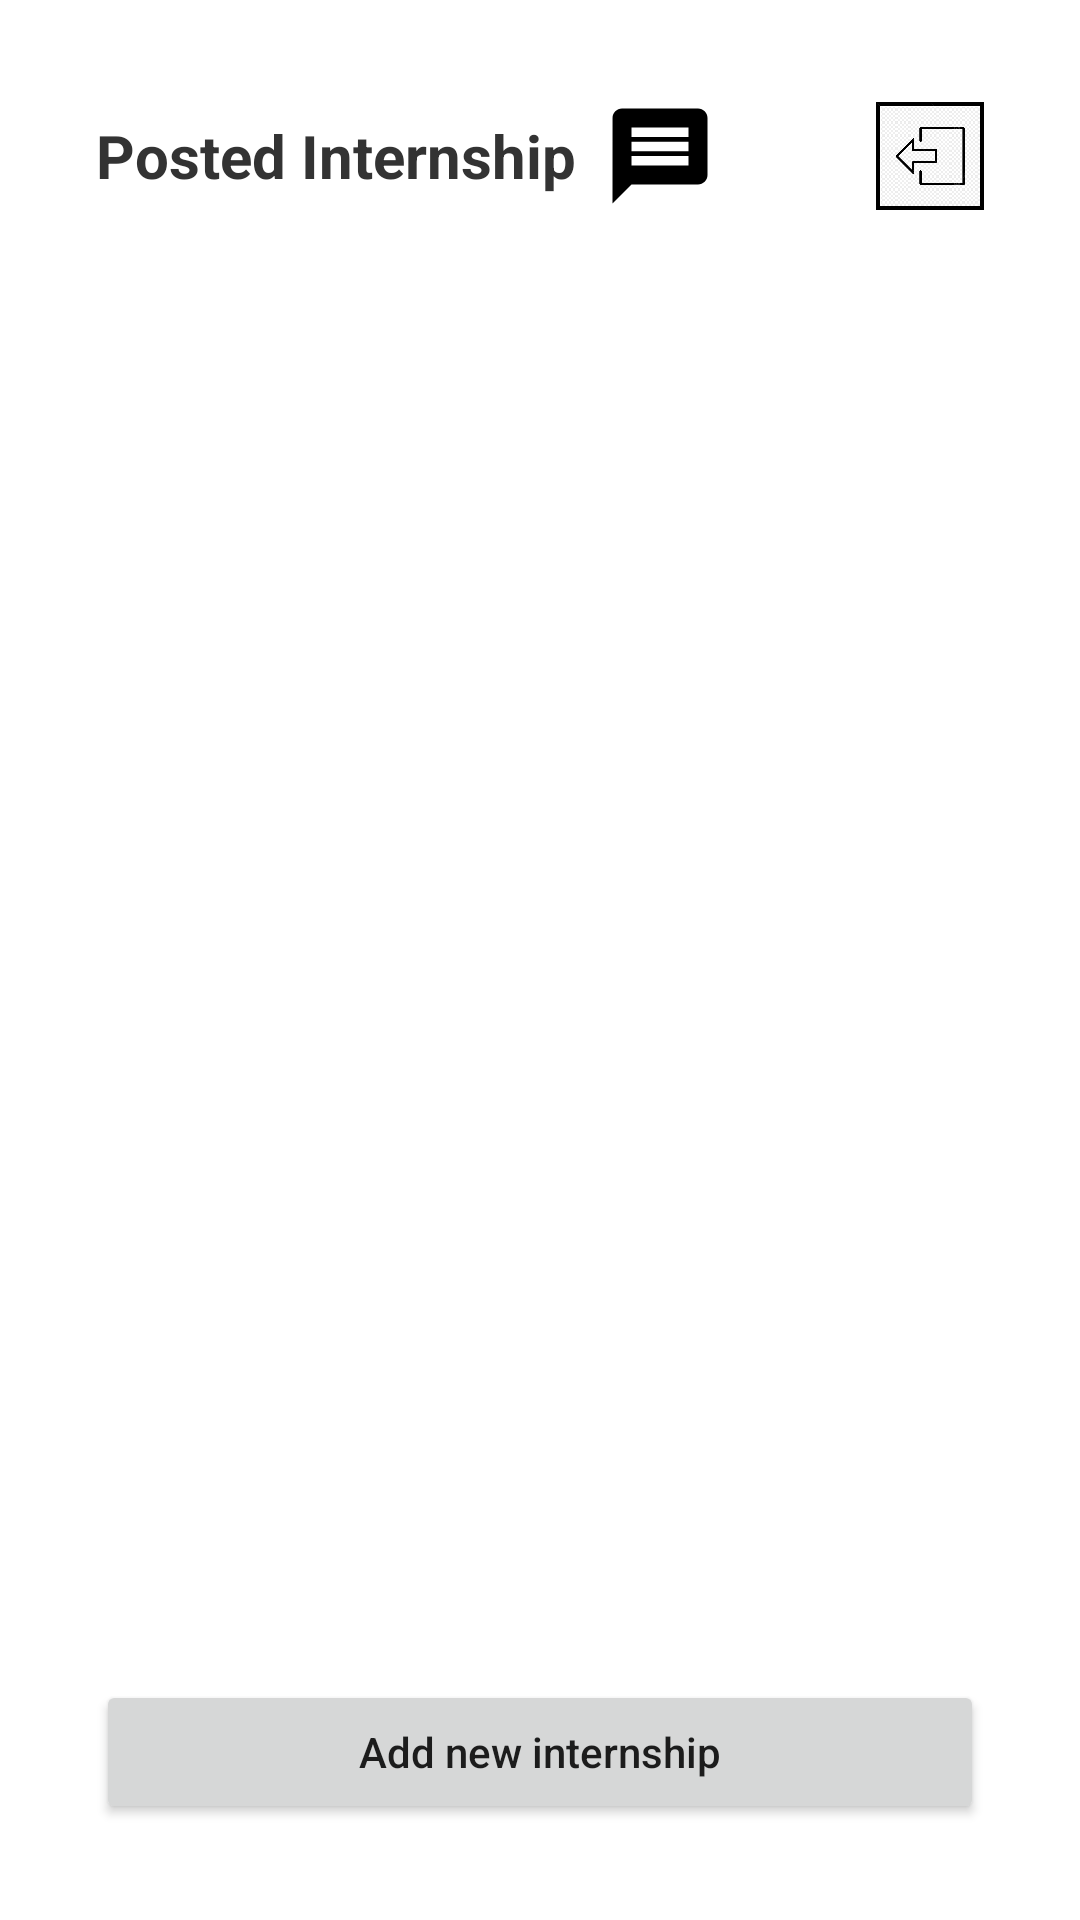

Named icons in this screenshot (1080×1920) and their bounding boxes, region(x1, y1, x2, y2):
message: region(612, 108, 708, 204)
